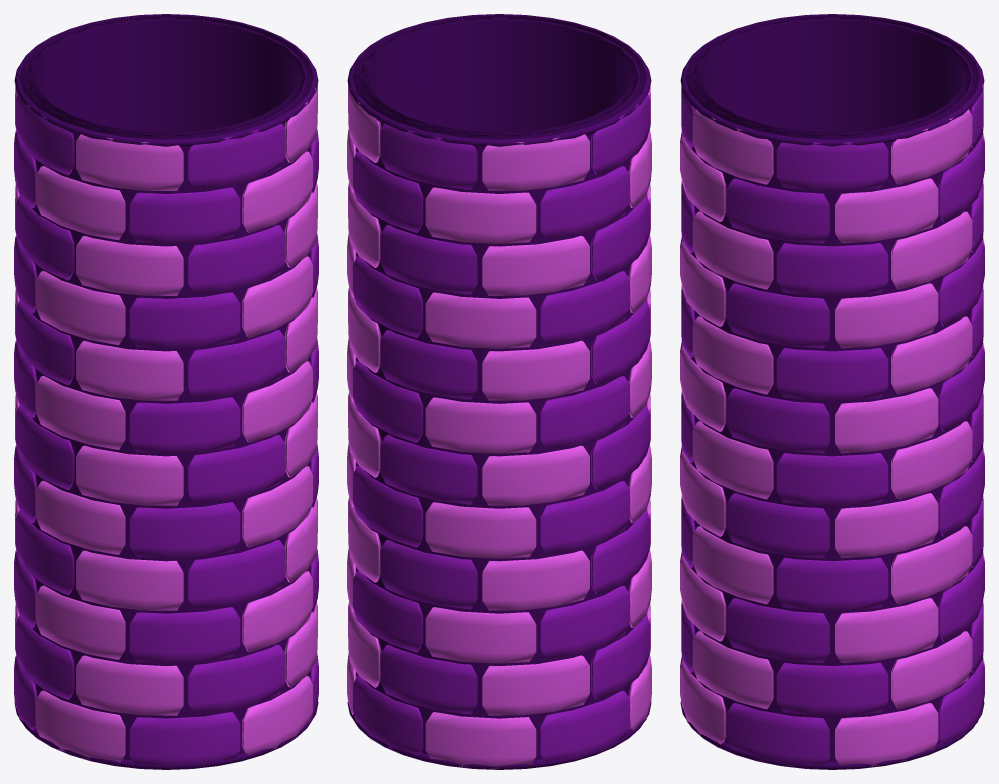
File: Tower.glb
3 renders of one model, left to right at view 1: azimuth 30°, elevation 25°; view 2: azimuth 150°, elevation 25°; view 3: azimuth 270°, elevation 25°, orthographic.
Parts seen in each view (by area): view 1: MagentaBricks, PurpleBricks, Body, Rims; view 2: PurpleBricks, MagentaBricks, Body, Rims; view 3: MagentaBricks, PurpleBricks, Body, Rims.
Part boxes in pixels (x1,y1,x2,y2): MagentaBricks: (15,69,317,762); PurpleBricks: (14,94,318,768); Body: (19,14,313,760); Rims: (14,14,318,769); PurpleBricks: (353,94,650,762); MagentaBricks: (347,69,651,768); Body: (352,14,646,760); Rims: (347,14,651,769); MagentaBricks: (680,109,984,766); PurpleBricks: (680,71,984,766); Body: (685,14,979,762); Rims: (680,14,984,769).
Size of the model in its own units: 1.97 by 4.48 by 1.97.
1 material, 1 textured.
